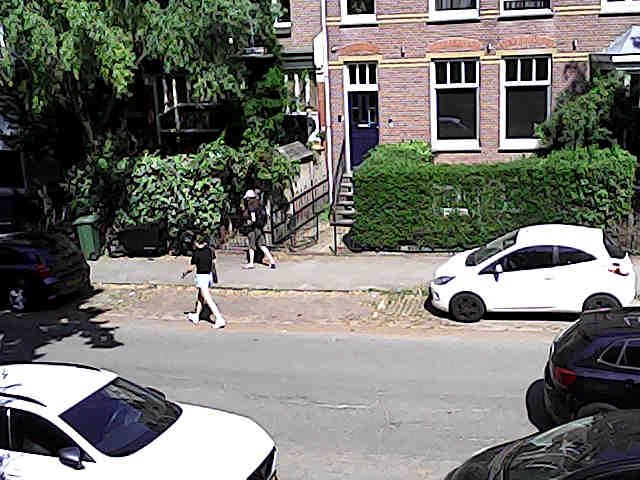male: (182, 235, 225, 327), (243, 190, 275, 268)
suv: (0, 363, 276, 479), (430, 224, 635, 321), (445, 410, 639, 479), (537, 307, 639, 423), (0, 233, 89, 311)
